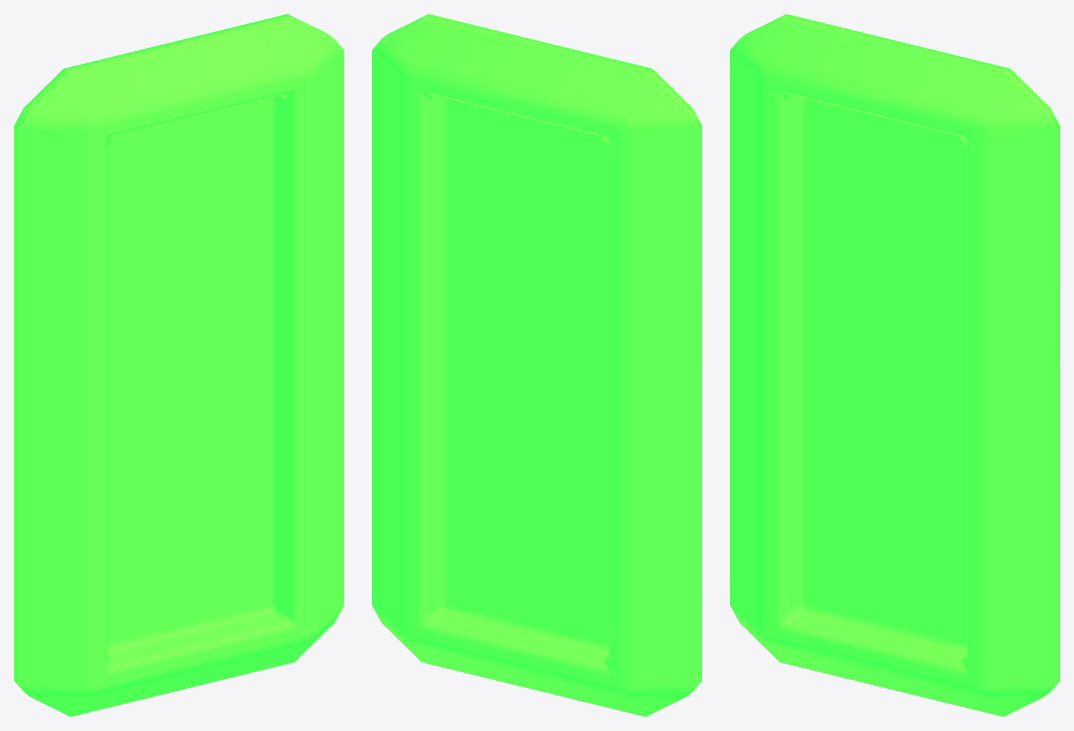
The model's file is hpCrystal.fbx.
3 renders of one model, left to right at view 1: azimuth 30°, elevation 25°; view 2: azimuth 150°, elevation 25°; view 3: azimuth 330°, elevation 25°, orthographic.
Visible parts, largest first — view 1: crystal; view 2: crystal; view 3: crystal.
Boxes of the visible parts, bbox=[...] form: crystal: bbox=[14, 14, 343, 716]; crystal: bbox=[372, 14, 701, 716]; crystal: bbox=[730, 14, 1059, 716].
Bounding box in the file's own units: 103 × 196 × 25.46.
